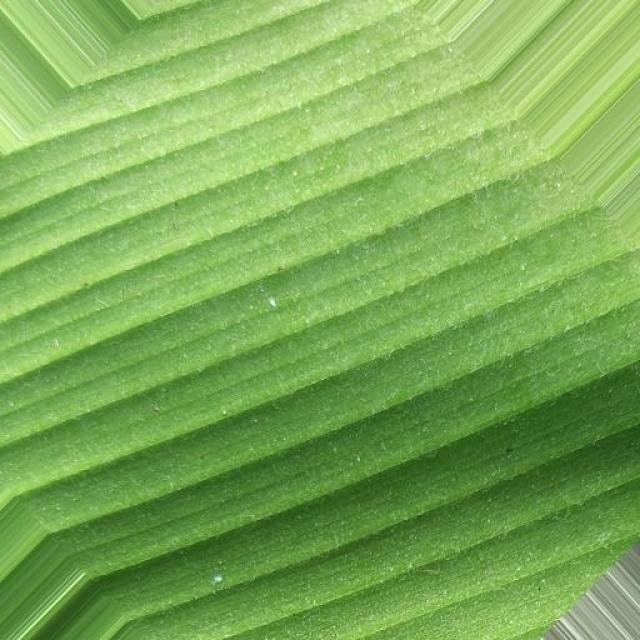Black_leaf_spot: (0, 0, 636, 585)
